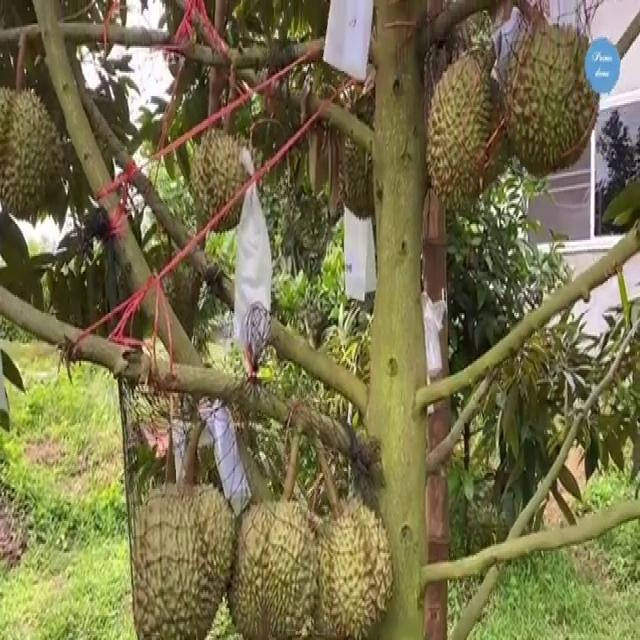durian: (492, 11, 604, 183), (129, 471, 239, 638), (224, 488, 322, 634), (422, 49, 514, 204), (305, 485, 396, 637), (2, 80, 65, 225), (188, 116, 247, 232)
